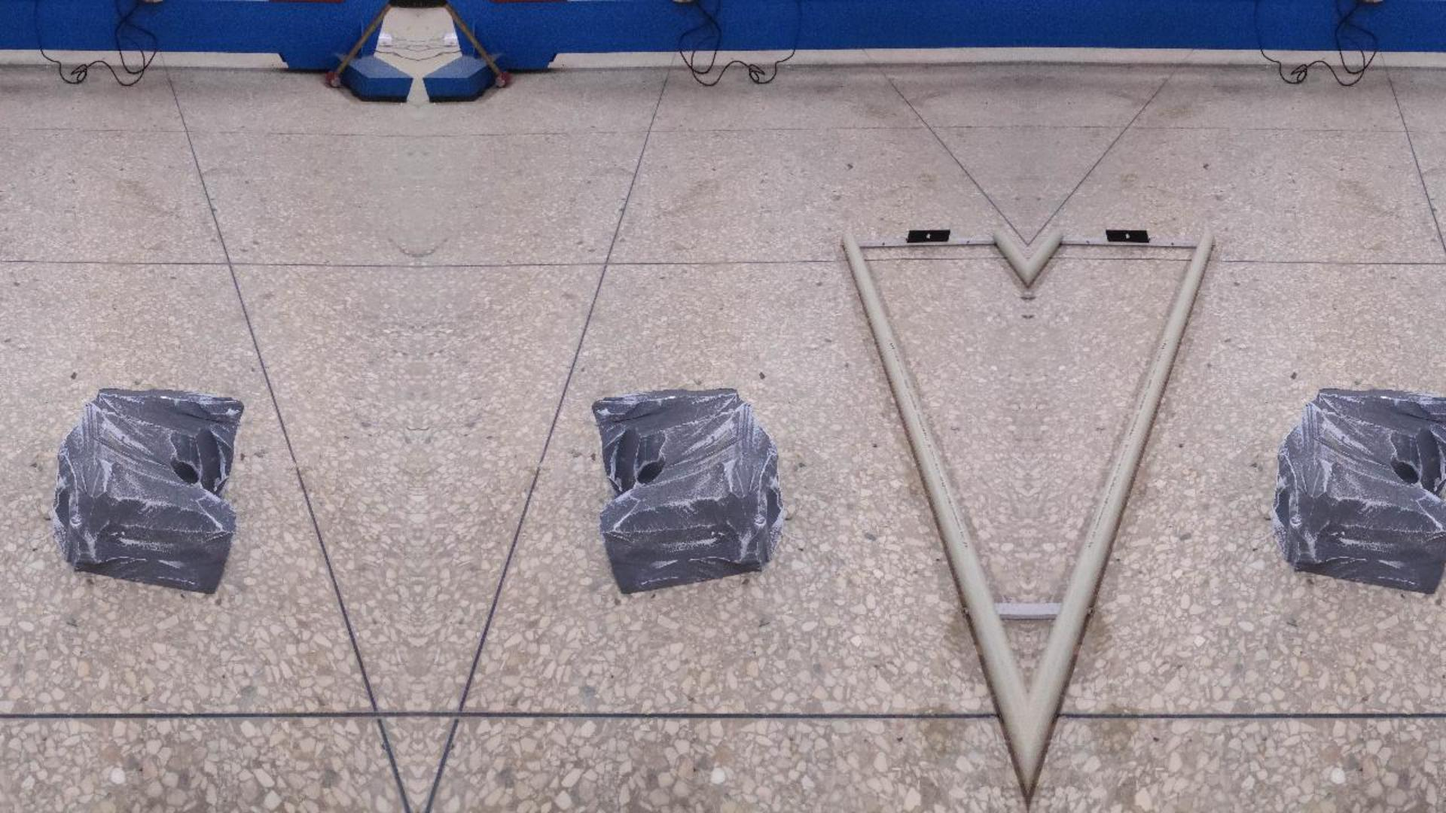rock: (592, 388, 783, 593), (52, 388, 243, 592), (1272, 388, 1445, 593)
